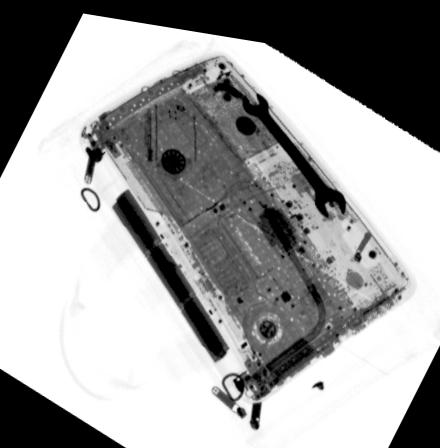Wrench: (240, 79, 347, 206)
